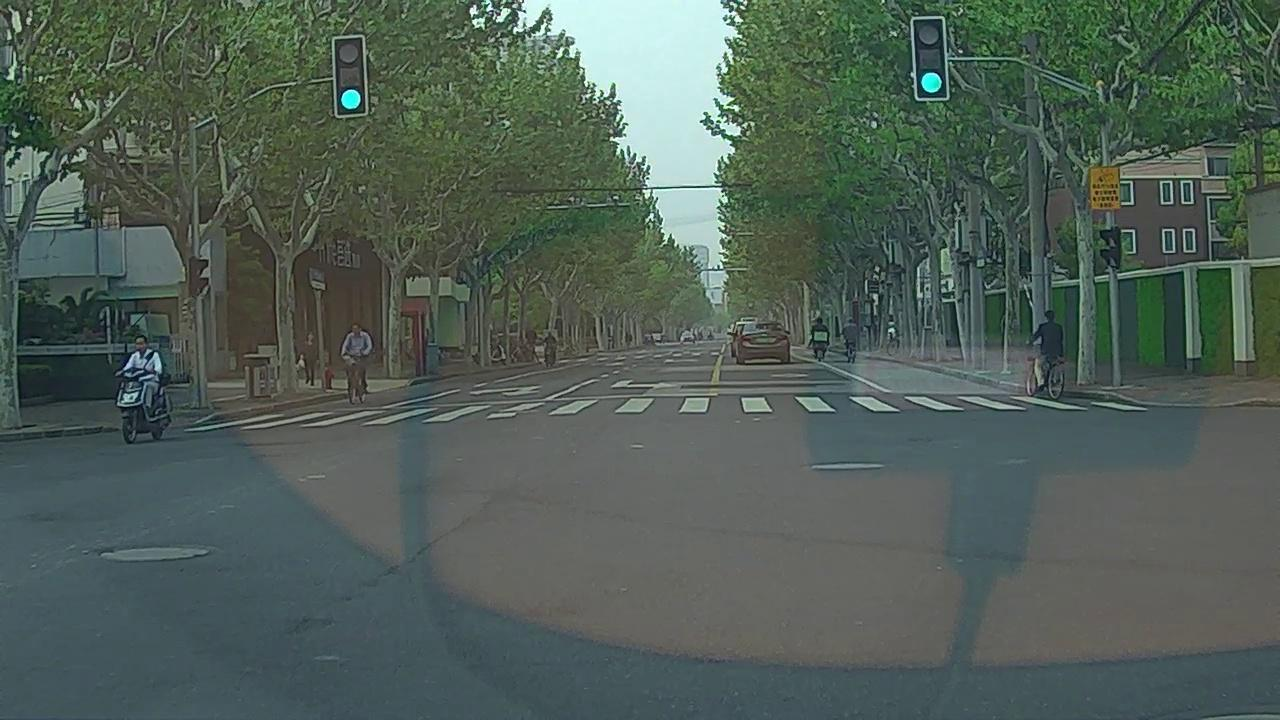traffic_light: (915, 18, 945, 98), (334, 38, 364, 112)
